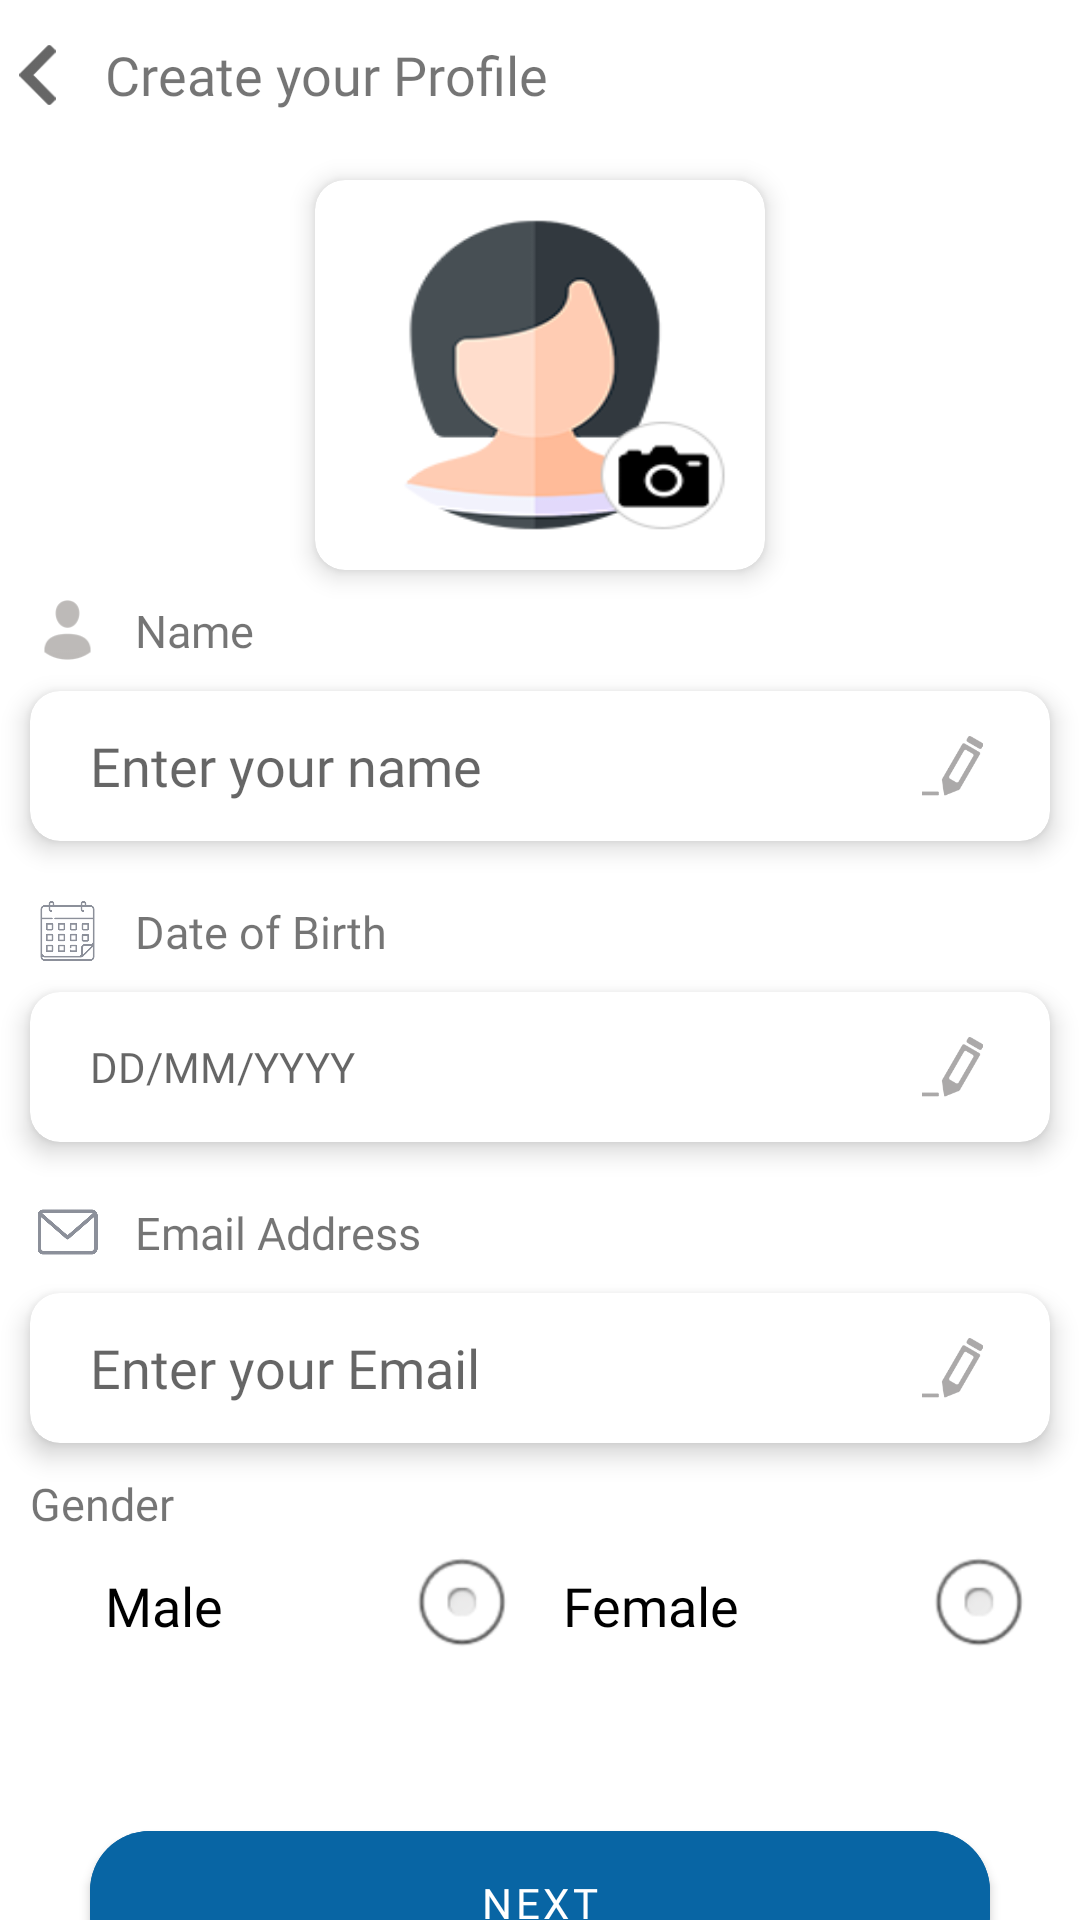

Locate icon controls on the screen. Image size 1080 × 1920, boxes as (x1, y1, x2, y2).
back: (19, 45, 56, 105)
edit: (922, 736, 983, 796), (922, 1037, 983, 1097), (922, 1338, 983, 1398)
profile: (44, 600, 91, 660)
